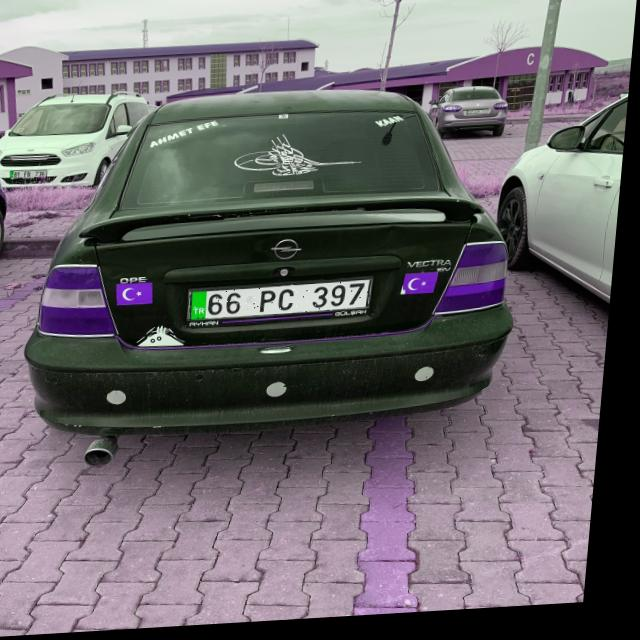license_plate: (193, 285, 377, 322)
